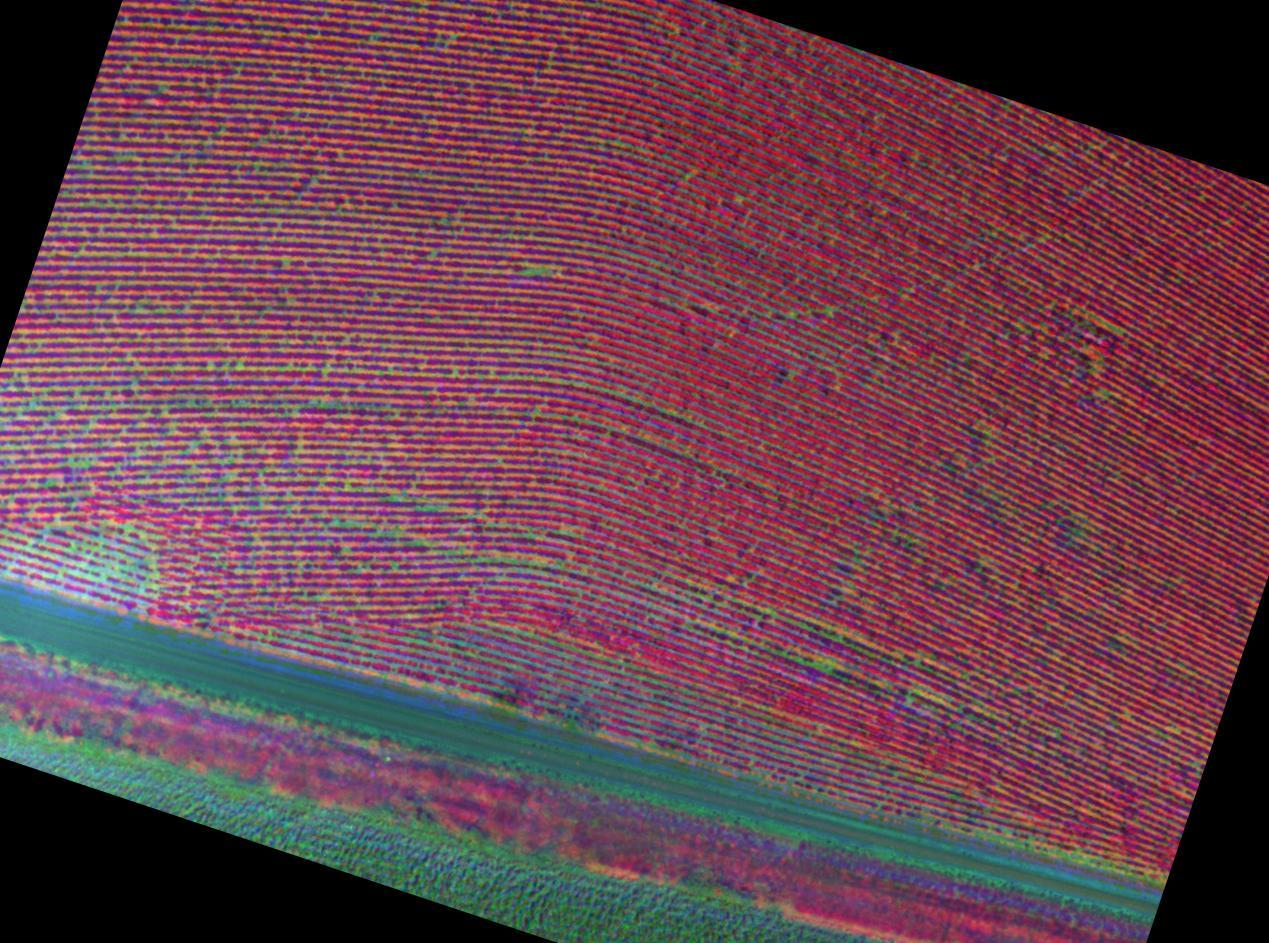dc: (125, 526, 130, 531), (103, 569, 108, 574), (534, 268, 539, 272), (27, 545, 31, 549), (210, 362, 213, 366), (69, 459, 73, 462)
